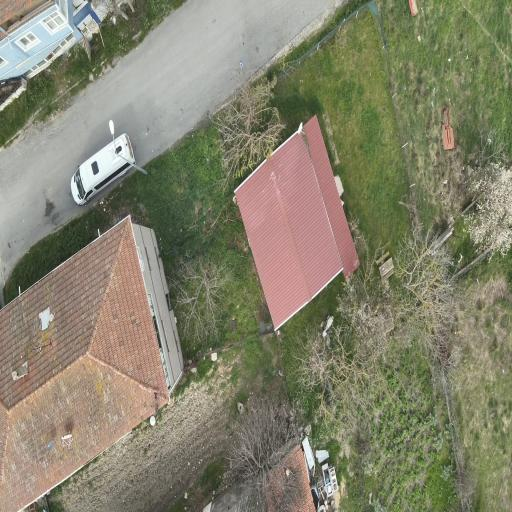car: (71, 134, 135, 204)
